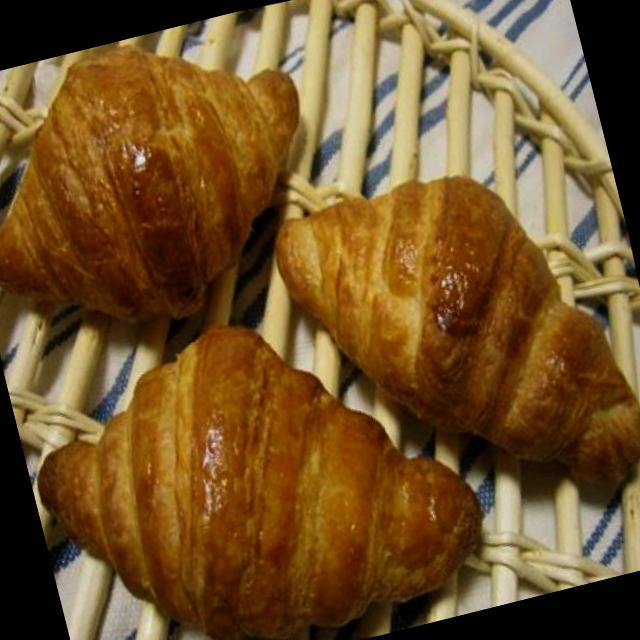Croissant: (0, 2, 338, 354)
